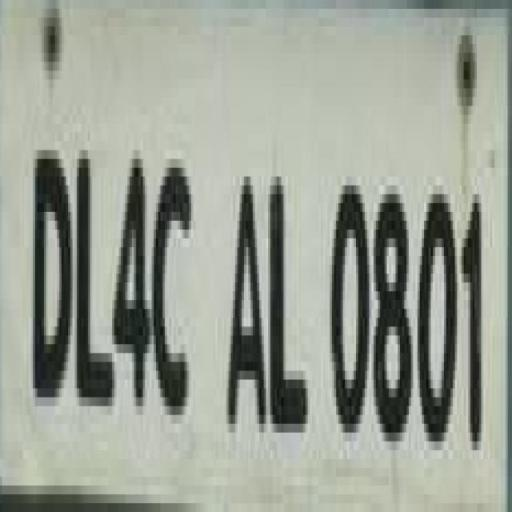number plate: (0, 17, 483, 512)
